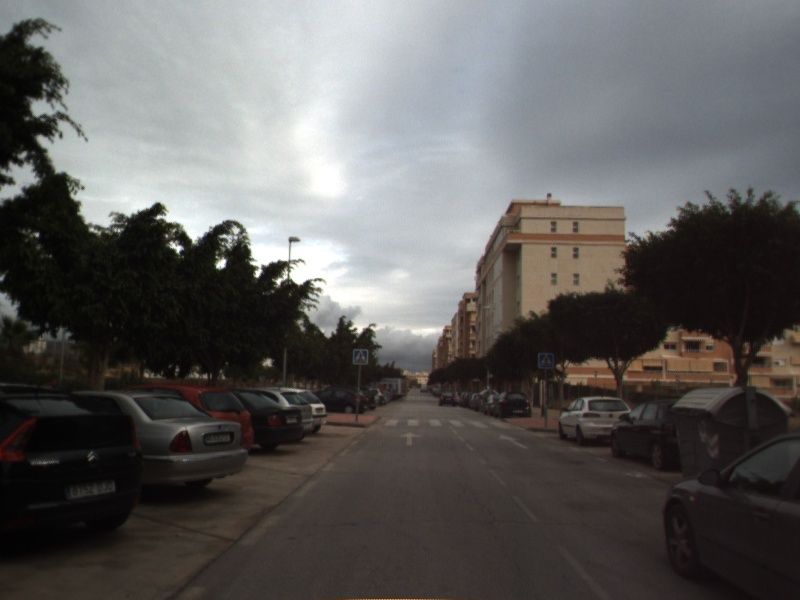STRAIGHT: (497, 432, 530, 450), (398, 430, 423, 447)
